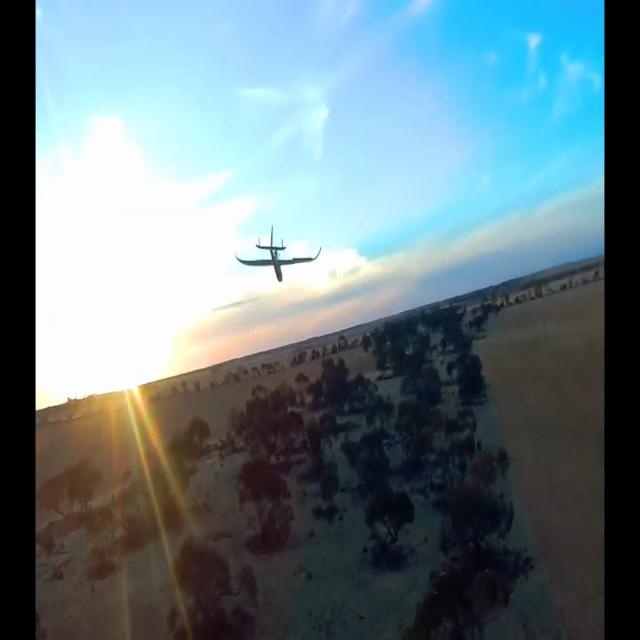iha: (266, 222, 290, 284)
